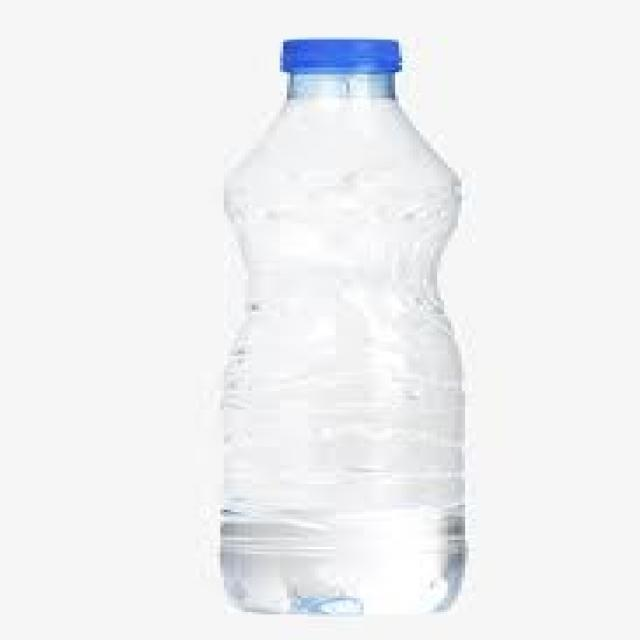Plastic: (218, 37, 468, 622)
